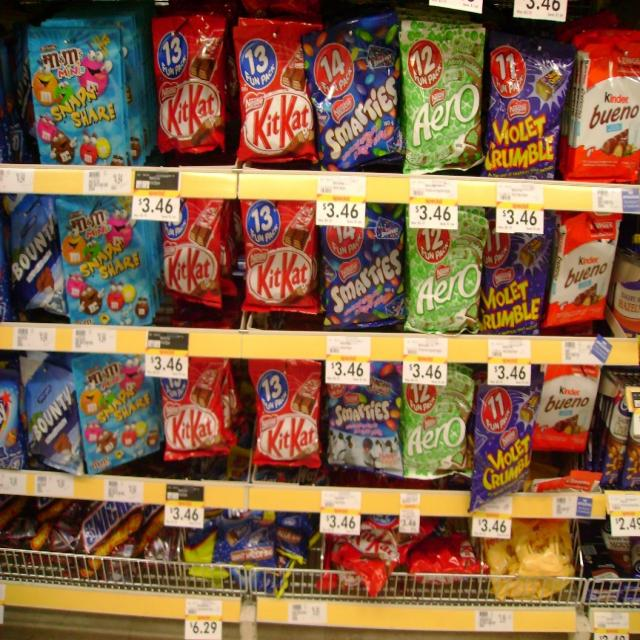q280: (234, 13, 319, 178), (152, 18, 236, 169), (239, 201, 313, 324), (246, 356, 321, 468), (158, 357, 228, 462), (158, 200, 223, 312)
